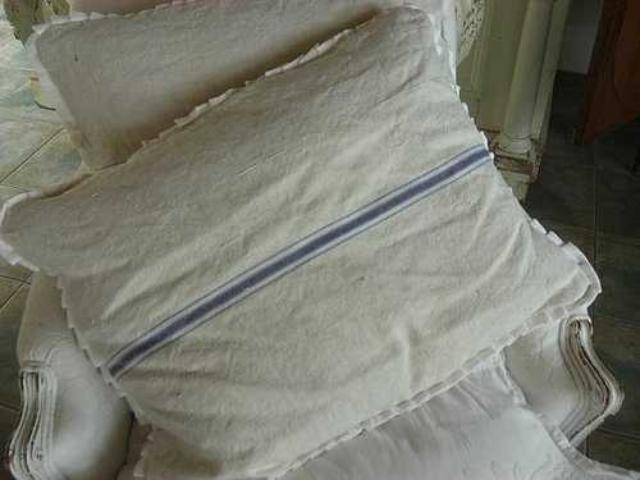pillow: (0, 0, 632, 478)
